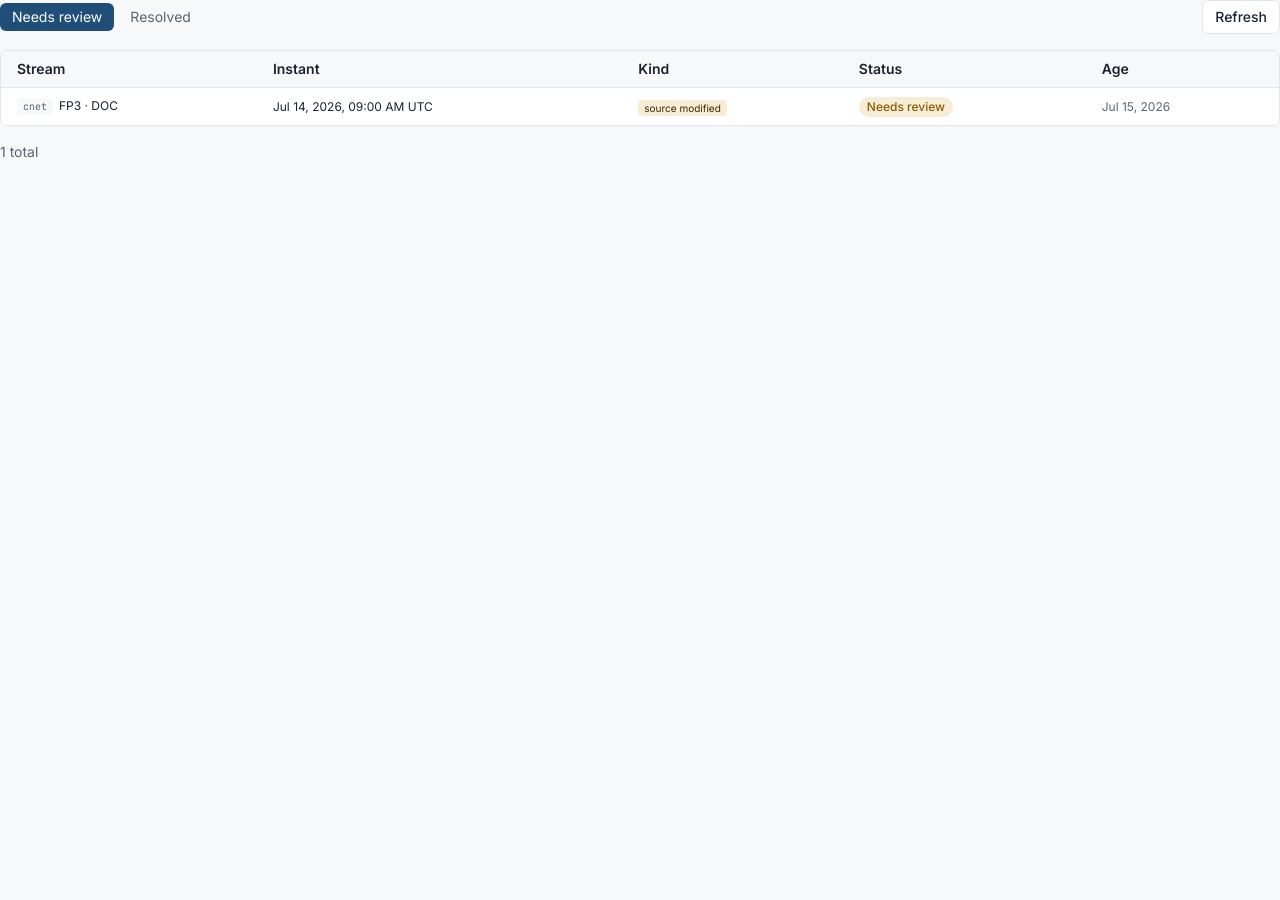
Test: ReplicateAuditsPanel › offers the acknowledgement on a value changed at source
The width and height of the screenshot is (1280, 900).
Step 1. Click the text "FP3 · DOC" → (640, 106), box [1, 88, 1279, 125]
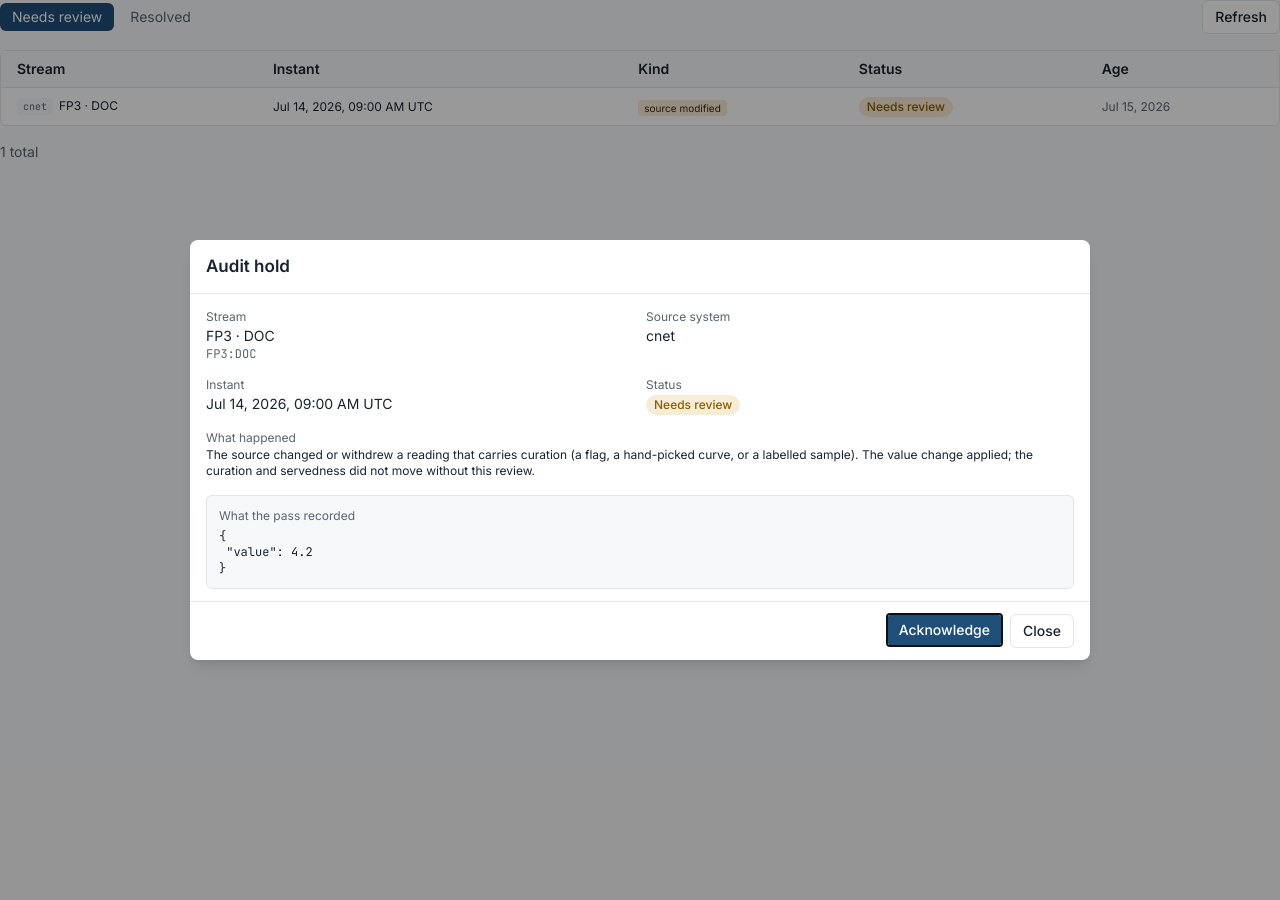
Expected: the button "Acknowledge" is shown, [887, 614, 1002, 646]
